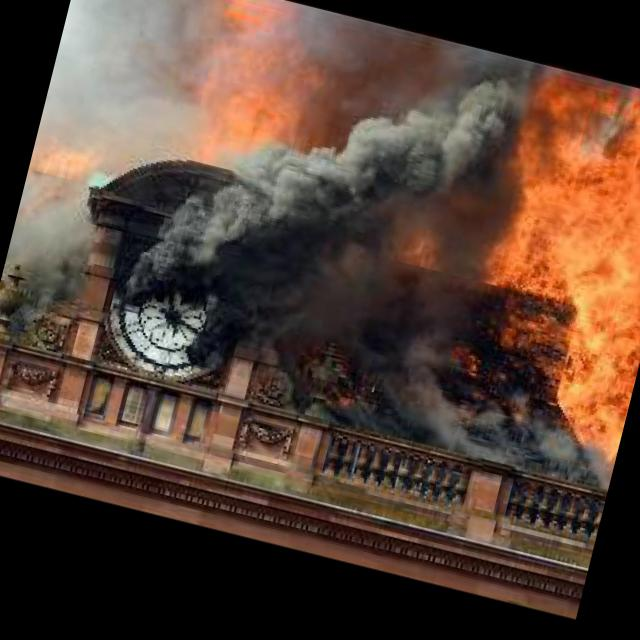fire: (451, 59, 640, 427), (181, 0, 331, 175), (28, 133, 94, 195)
smoke: (89, 120, 509, 450), (289, 8, 536, 226), (334, 350, 625, 499)
